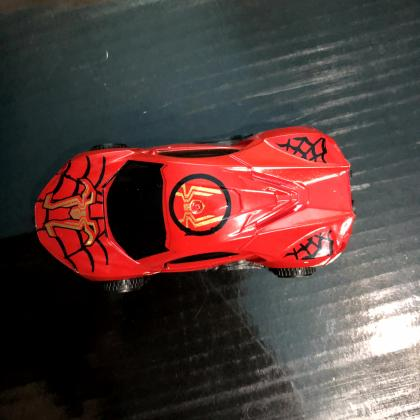Car: (33, 126, 355, 284)
